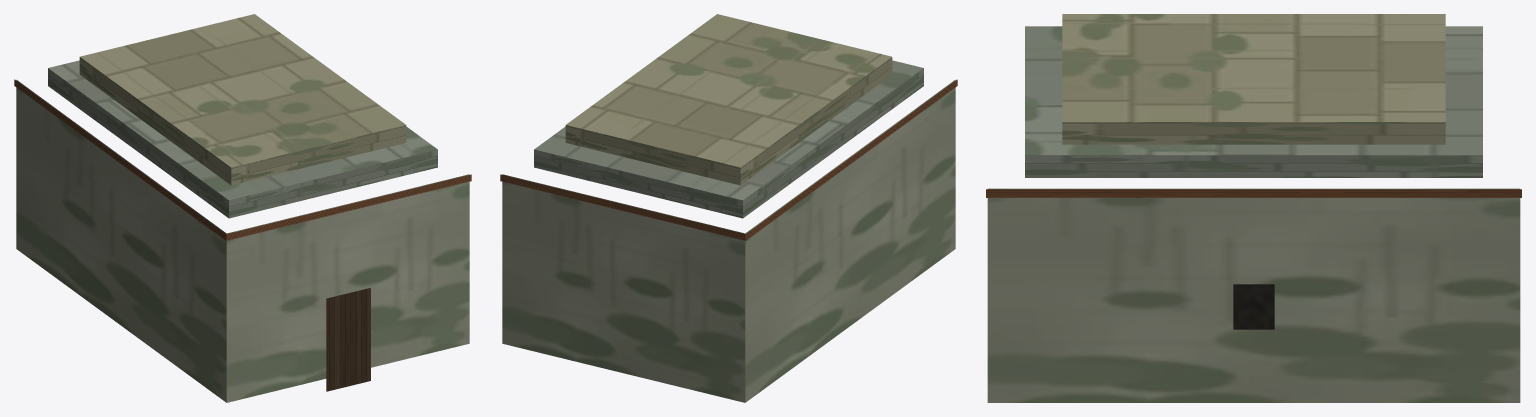
The model's file is ae_jungle_stone_large_hall_lod2.glb.
The picture shows the model from 3 angles, left to right: view 1: azimuth 30°, elevation 25°; view 2: azimuth 150°, elevation 25°; view 3: azimuth 270°, elevation 25°; orthographic projection. The views are drawn at different scales.
Visible parts, largest first — view 1: ae_jungle_stone_large_hall_lod2; view 2: ae_jungle_stone_large_hall_lod2; view 3: ae_jungle_stone_large_hall_lod2.
Part boxes in pixels (x1=…): ae_jungle_stone_large_hall_lod2: x1=14, y1=14, x2=471, y2=402; ae_jungle_stone_large_hall_lod2: x1=500, y1=14, x2=957, y2=402; ae_jungle_stone_large_hall_lod2: x1=986, y1=14, x2=1521, y2=402.
Bounding box in the file's own units: 6.06 × 5.15 × 9.06.
1 material, 1 textured.
